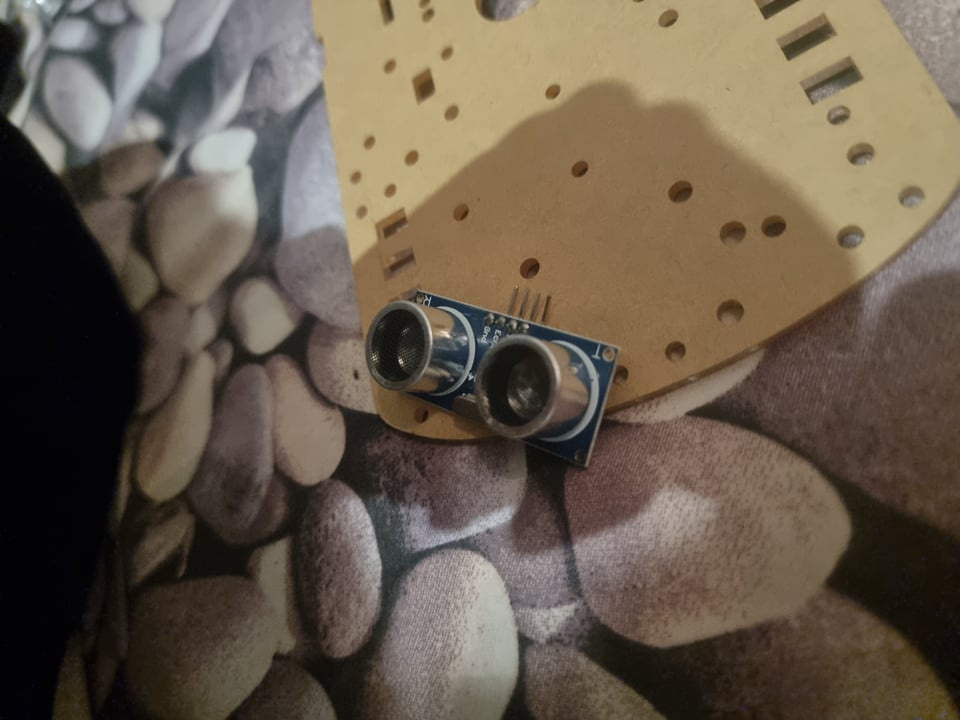SENSOR: (360, 290, 622, 469)
